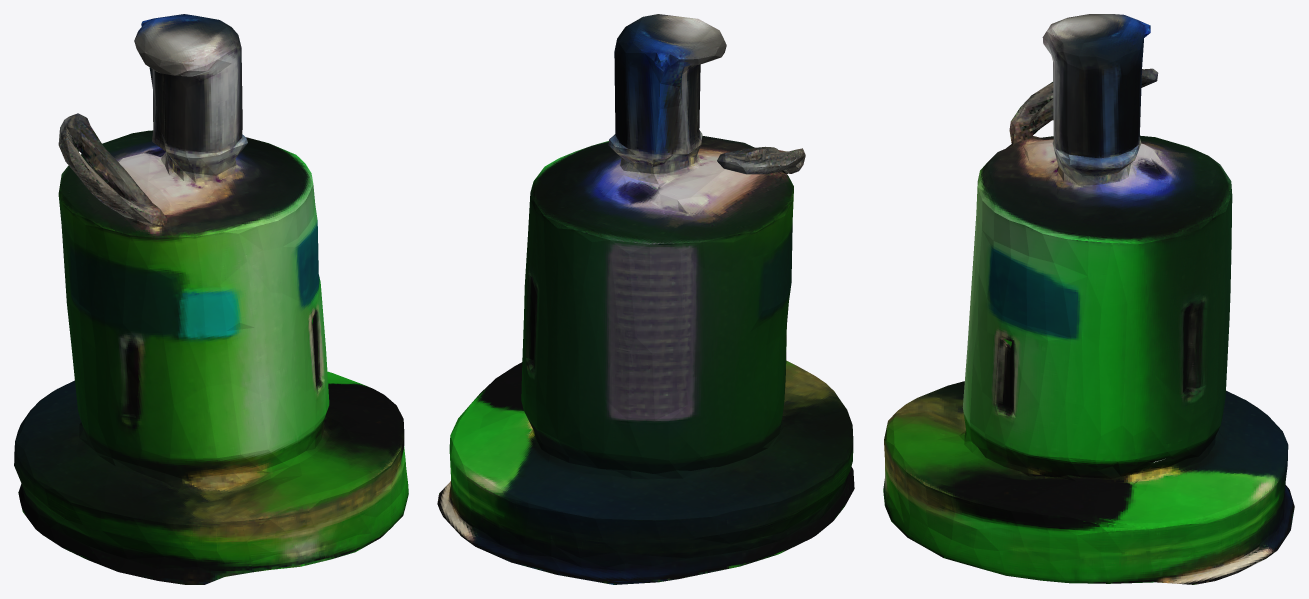
Rendered from yeşil_duba15.glb.
3 views of the same model, side by side, from view 1: azimuth 30°, elevation 25°; view 2: azimuth 150°, elevation 25°; view 3: azimuth 270°, elevation 25° (orthographic).
Visible parts, largest first — view 1: world; view 2: world; view 3: world.
Boxes of the visible parts, <box> form: world: <box>14,14,408,584</box>; world: <box>437,14,854,584</box>; world: <box>883,14,1294,584</box>.
Size of the model in its own units: 0.2553 by 0.3383 by 0.2651.
1 material, 1 textured.
